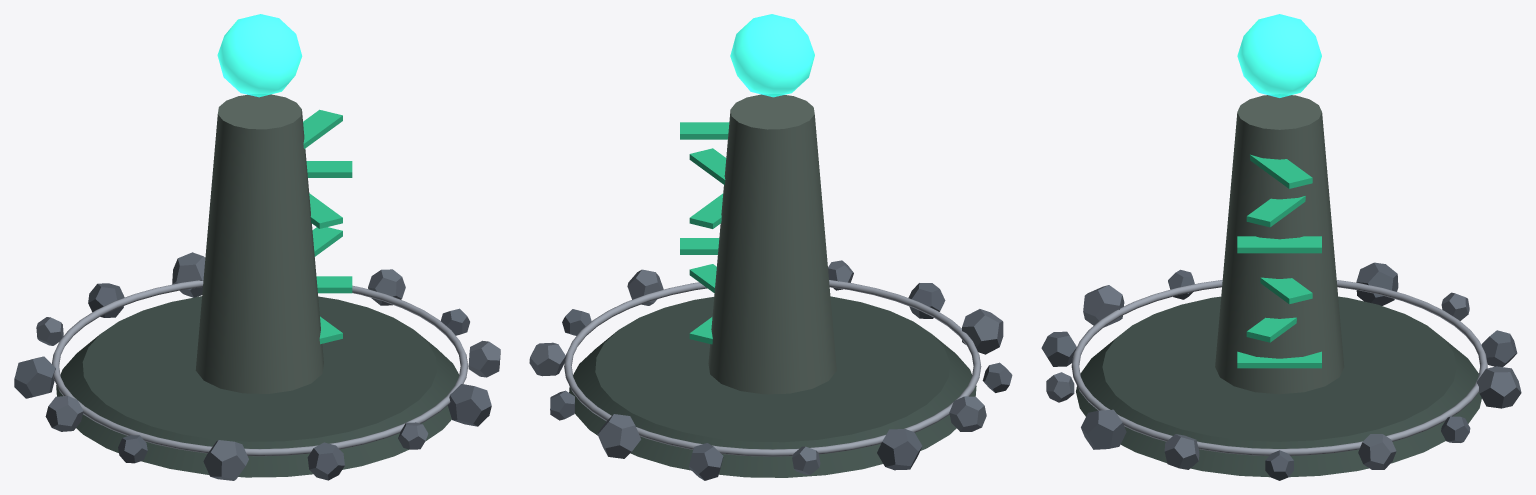
File: unit03.glb
3 renders of one model, left to right at view 1: azimuth 30°, elevation 25°; view 2: azimuth 150°, elevation 25°; view 3: azimuth 270°, elevation 25°, orthographic.
Parts seen in each view (by area): view 1: rw3_unit03_spiral, Crystal; view 2: rw3_unit03_spiral, Crystal; view 3: rw3_unit03_spiral, Crystal.
Part boxes in pixels (bbox=[...]): rw3_unit03_spiral: bbox=[14, 94, 500, 480]; Crystal: bbox=[217, 14, 302, 97]; rw3_unit03_spiral: bbox=[529, 94, 1012, 480]; Crystal: bbox=[730, 14, 814, 97]; rw3_unit03_spiral: bbox=[1041, 95, 1521, 480]; Crystal: bbox=[1237, 14, 1321, 97].
Size of the model in its own units: 6.24 by 5.35 by 6.23.
